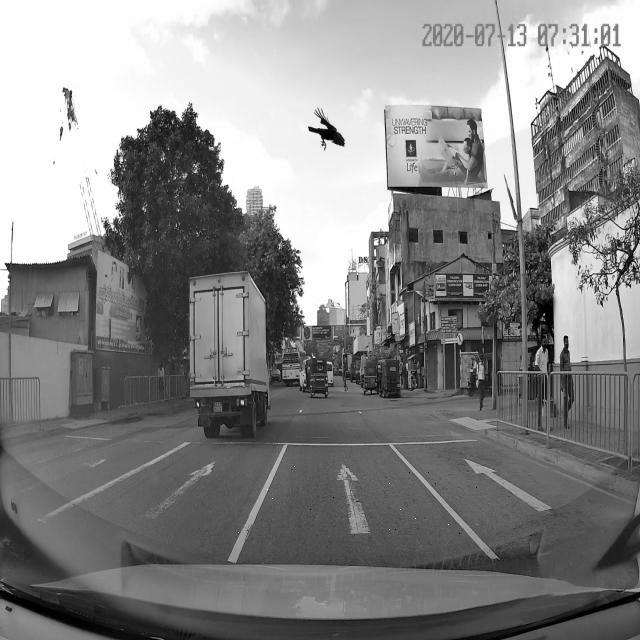forward: (236, 462, 477, 535)
